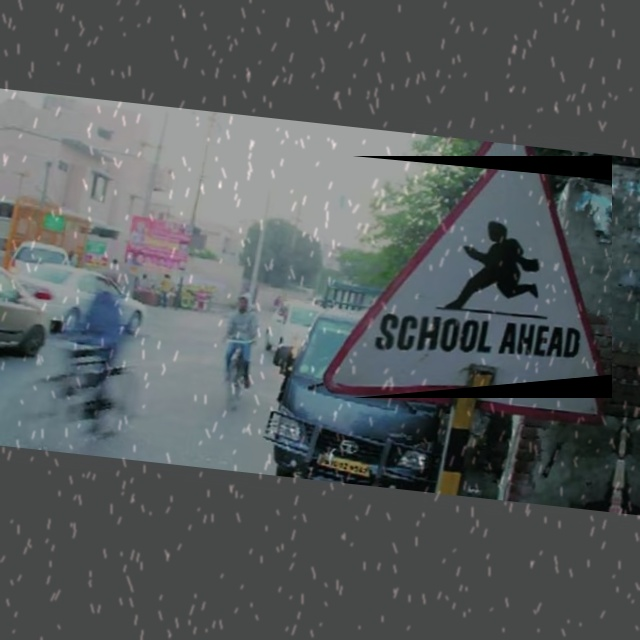School_Ahead: (352, 156, 612, 398)
